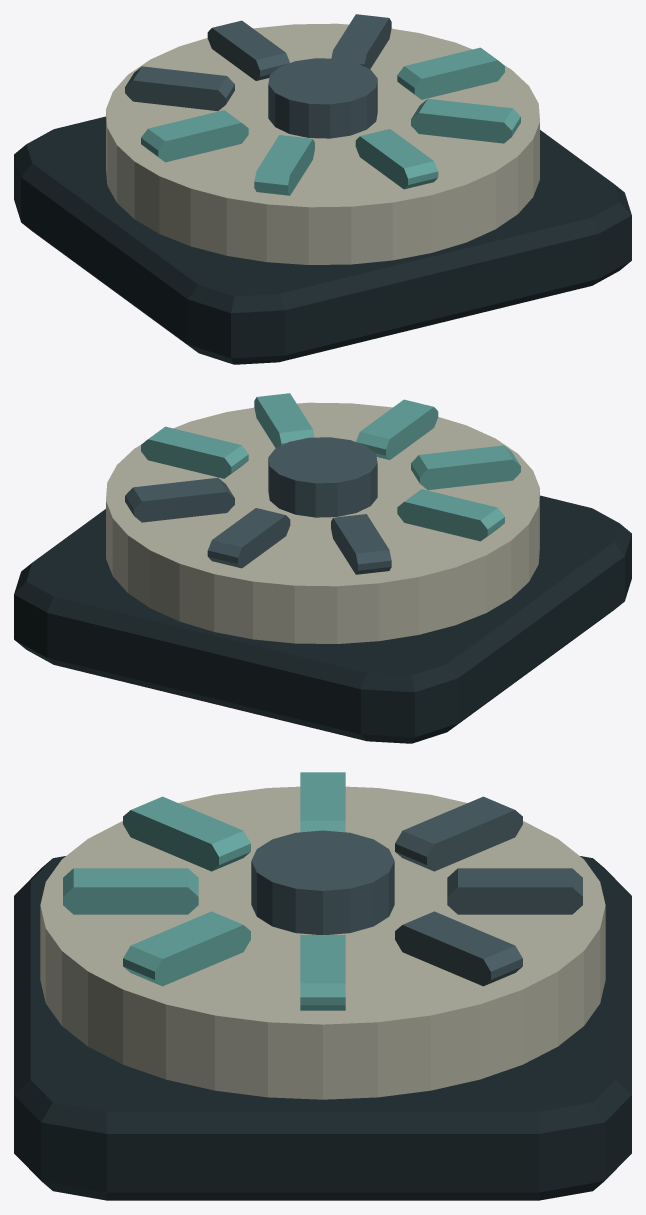
Rendered from OP-01_slide_magazine.glb.
3 views of the same model, one above another, from view 1: azimuth 30°, elevation 25°; view 2: azimuth 150°, elevation 25°; view 3: azimuth 270°, elevation 25° (orthographic). The views are drawn at different scales.
Visible parts, largest first — view 1: OP-01_slide_magazine; view 2: OP-01_slide_magazine; view 3: OP-01_slide_magazine.
Boxes of the visible parts, x1,y1,x2,y2 form: OP-01_slide_magazine: (14, 14, 631, 364); OP-01_slide_magazine: (14, 393, 631, 743); OP-01_slide_magazine: (14, 772, 631, 1200).
Bounding box in the file's own units: 0.174 × 0.061 × 0.164.
